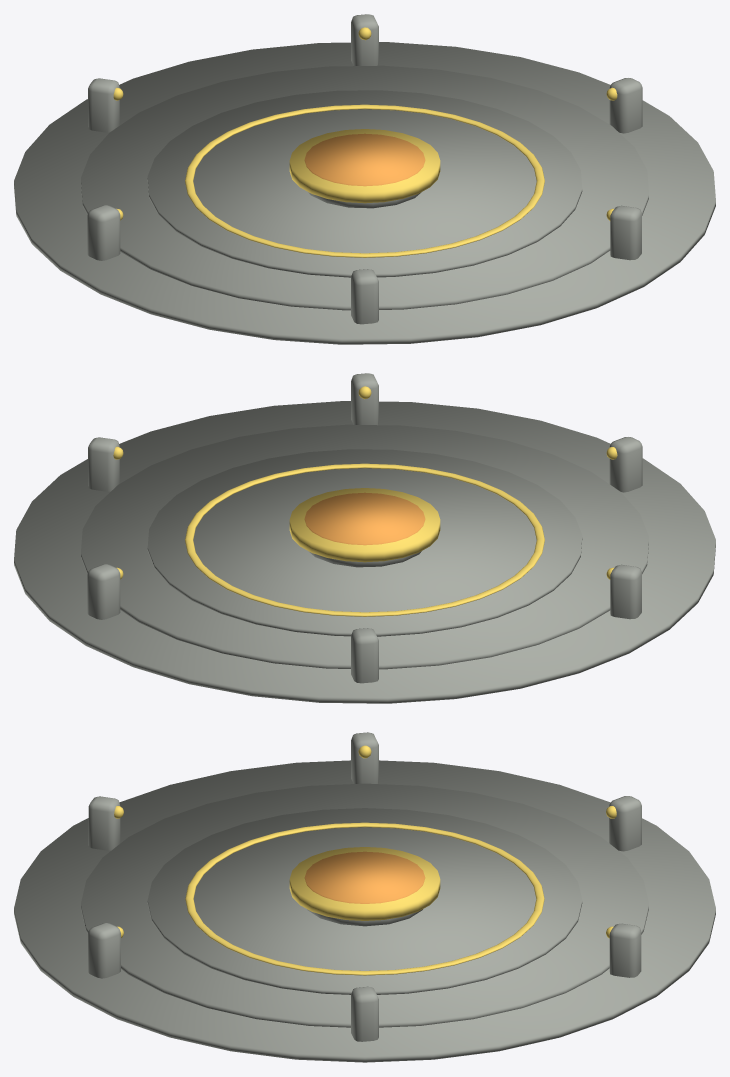
Rendered from Sacred_Altar.fbx.
3 views of the same model, one above another, from view 1: azimuth 30°, elevation 25°; view 2: azimuth 150°, elevation 25°; view 3: azimuth 270°, elevation 25° (orthographic).
Visible parts, largest first — view 1: Altar_Dais_Step1, Altar_Dais_Step3, Altar_Dais_Step2, Altar_Basin_Glow, Altar_Rune_Ring, Altar_Crystal_Receptacle, Altar_BoundaryStone_3, Altar_BoundaryStone_5, Altar_BoundaryStone_0, Altar_BoundaryStone_2, Altar_BoundaryStone_4, Altar_BoundaryStone_1 (+1 smaller); view 2: Altar_Dais_Step1, Altar_Dais_Step3, Altar_Dais_Step2, Altar_Basin_Glow, Altar_Rune_Ring, Altar_Crystal_Receptacle, Altar_BoundaryStone_1, Altar_BoundaryStone_3, Altar_BoundaryStone_4, Altar_BoundaryStone_0, Altar_BoundaryStone_2, Altar_BoundaryStone_5 (+1 smaller); view 3: Altar_Dais_Step1, Altar_Dais_Step3, Altar_Dais_Step2, Altar_Basin_Glow, Altar_Rune_Ring, Altar_Crystal_Receptacle, Altar_BoundaryStone_5, Altar_BoundaryStone_1, Altar_BoundaryStone_4, Altar_BoundaryStone_2, Altar_BoundaryStone_0, Altar_BoundaryStone_3 (+1 smaller).
Boxes of the visible parts, x1,y1,x2,y2 form: Altar_Dais_Step1: [14, 42, 715, 344]; Altar_Dais_Step3: [147, 90, 582, 277]; Altar_Dais_Step2: [81, 65, 648, 310]; Altar_Basin_Glow: [304, 133, 425, 186]; Altar_Rune_Ring: [185, 104, 544, 257]; Altar_Crystal_Receptacle: [289, 129, 440, 203]; Altar_BoundaryStone_3: [87, 205, 120, 260]; Altar_BoundaryStone_5: [610, 205, 641, 260]; Altar_BoundaryStone_0: [609, 78, 642, 133]; Altar_BoundaryStone_2: [88, 78, 119, 132]; Altar_BoundaryStone_4: [351, 269, 378, 324]; Altar_BoundaryStone_1: [351, 14, 378, 65]; Altar_Dais_Step1: [14, 401, 715, 703]; Altar_Dais_Step3: [147, 449, 582, 636]; Altar_Dais_Step2: [81, 424, 648, 669]; Altar_Basin_Glow: [304, 492, 425, 545]; Altar_Rune_Ring: [185, 463, 544, 616]; Altar_Crystal_Receptacle: [289, 488, 440, 562]; Altar_BoundaryStone_1: [87, 564, 120, 619]; Altar_BoundaryStone_3: [610, 564, 641, 619]; Altar_BoundaryStone_4: [609, 437, 642, 492]; Altar_BoundaryStone_0: [88, 437, 119, 491]; Altar_BoundaryStone_2: [351, 628, 378, 683]; Altar_BoundaryStone_5: [351, 373, 378, 425]; Altar_Dais_Step1: [14, 760, 715, 1062]; Altar_Dais_Step3: [147, 808, 582, 994]; Altar_Dais_Step2: [81, 783, 648, 1027]; Altar_Basin_Glow: [304, 851, 425, 903]; Altar_Rune_Ring: [185, 822, 544, 975]; Altar_Crystal_Receptacle: [289, 847, 440, 920]; Altar_BoundaryStone_5: [88, 923, 120, 978]; Altar_BoundaryStone_1: [609, 923, 641, 977]; Altar_BoundaryStone_4: [88, 796, 120, 850]; Altar_BoundaryStone_2: [609, 796, 641, 851]; Altar_BoundaryStone_0: [351, 986, 378, 1041]; Altar_BoundaryStone_3: [351, 732, 378, 783].
Size of the model in its own units: 8.4 by 0.7 by 8.4.
